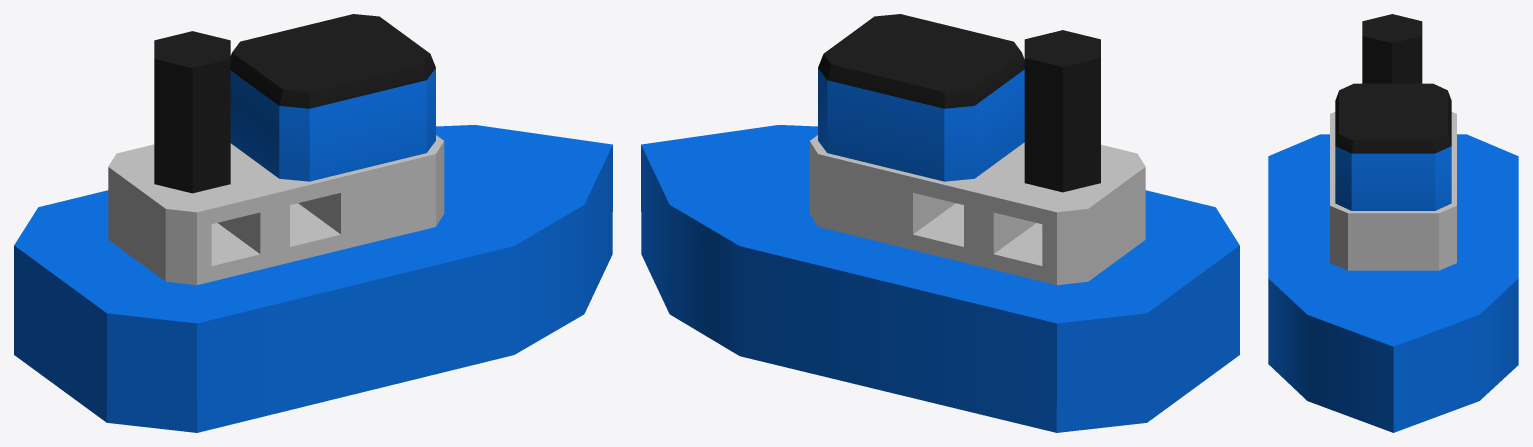
The model's file is Boat_B.FBX.
3 renders of one model, left to right at view 1: azimuth 30°, elevation 25°; view 2: azimuth 150°, elevation 25°; view 3: azimuth 270°, elevation 25°, orthographic. The views are drawn at different scales.
Parts seen in each view (by area): view 1: Boat; view 2: Boat; view 3: Boat.
Boxes of the visible parts, <box> form: Boat: <box>14,14,612,432</box>; Boat: <box>641,14,1239,432</box>; Boat: <box>1268,14,1518,432</box>.
Bounding box in the file's own units: 119 × 63.46 × 59.25.
